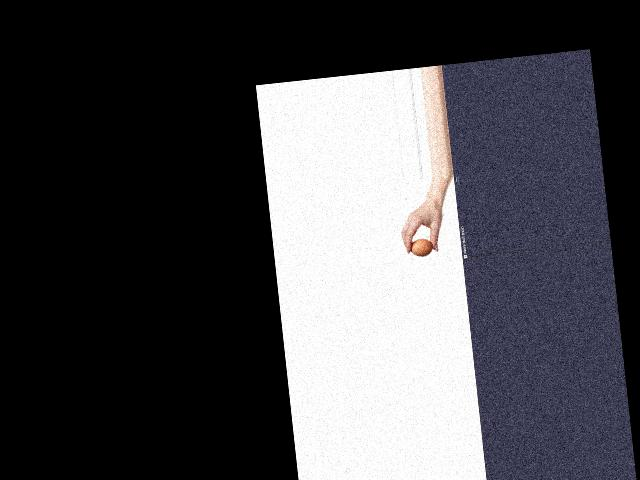egg: (410, 236, 434, 257)
